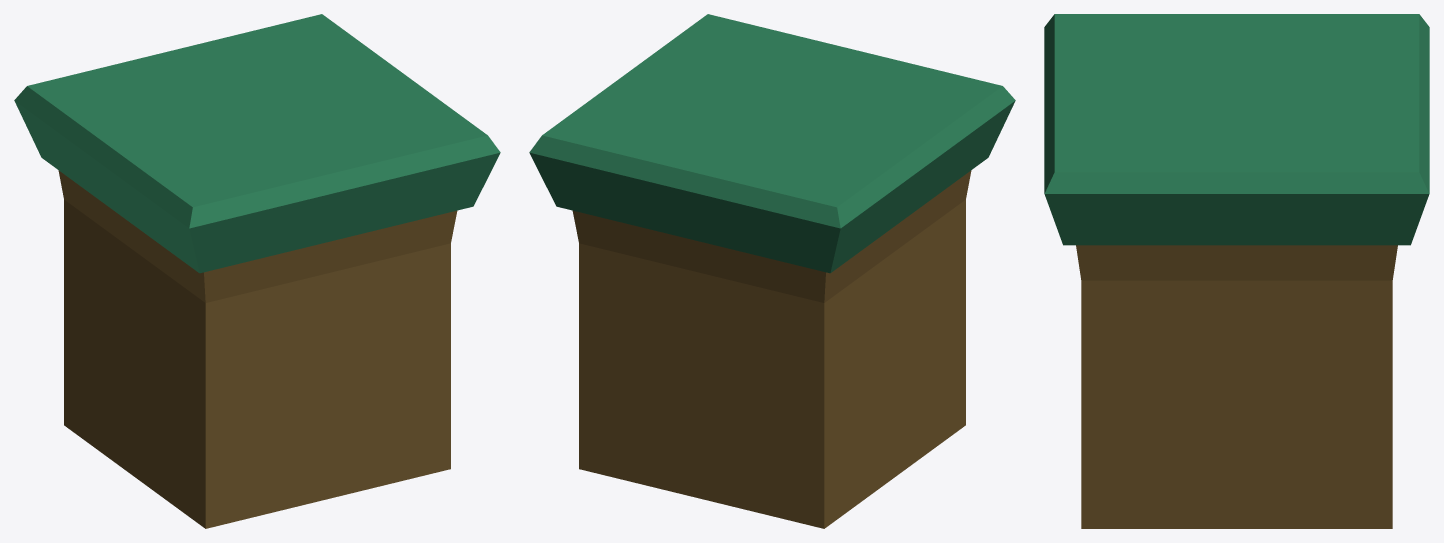
The model's file is Plataforma-tierra.fbx.
3 renders of one model, left to right at view 1: azimuth 30°, elevation 25°; view 2: azimuth 150°, elevation 25°; view 3: azimuth 270°, elevation 25°, orthographic. The views are drawn at different scales.
Parts seen in each view (by area): view 1: Plataforma_tierra; view 2: Plataforma_tierra; view 3: Plataforma_tierra.
Part boxes in pixels (x1=…): Plataforma_tierra: x1=14, y1=14, x2=500, y2=528; Plataforma_tierra: x1=529, y1=14, x2=1015, y2=528; Plataforma_tierra: x1=1044, y1=14, x2=1429, y2=528.
Size of the model in its own units: 5.92 by 6.12 by 5.77.
